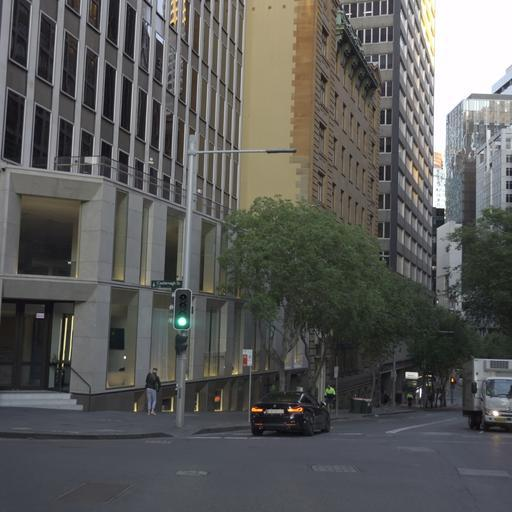Street light: (172, 138, 297, 428), (172, 287, 192, 331)
